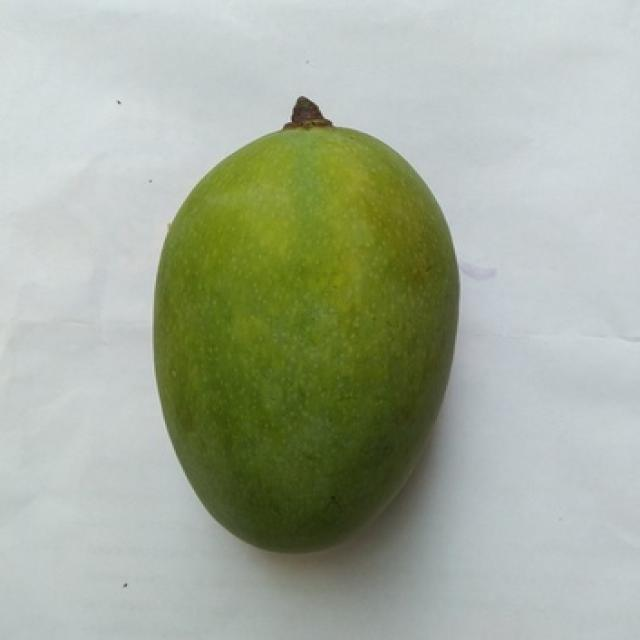Mango: (156, 99, 457, 550)
